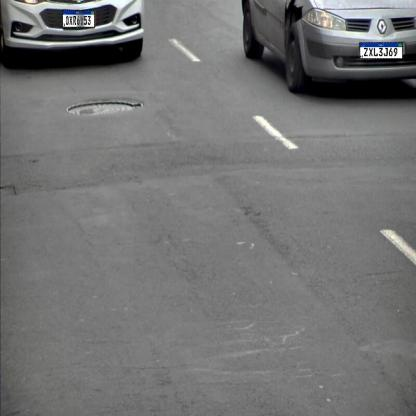PlacaM: (359, 42, 403, 59), (62, 10, 94, 28)
